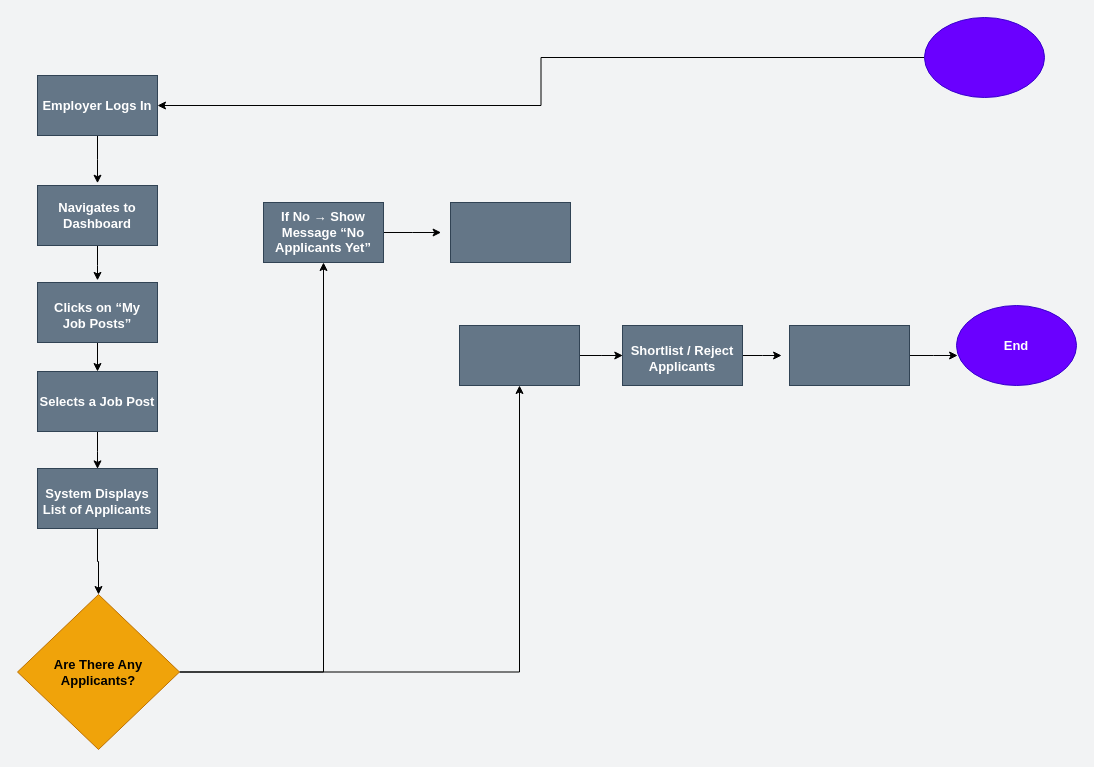
Image size: 1094x767. Some labels were removed from this diagram. The shapes that lost their labels are listed below. From the top down, each one's centre as x and y in pixels, then its label:
(984,57): Start
(510,232): Redirect to Dashboard
(519,355): If Yes → View Applicant Details
(849,355): System Saves Employer’s Actions
